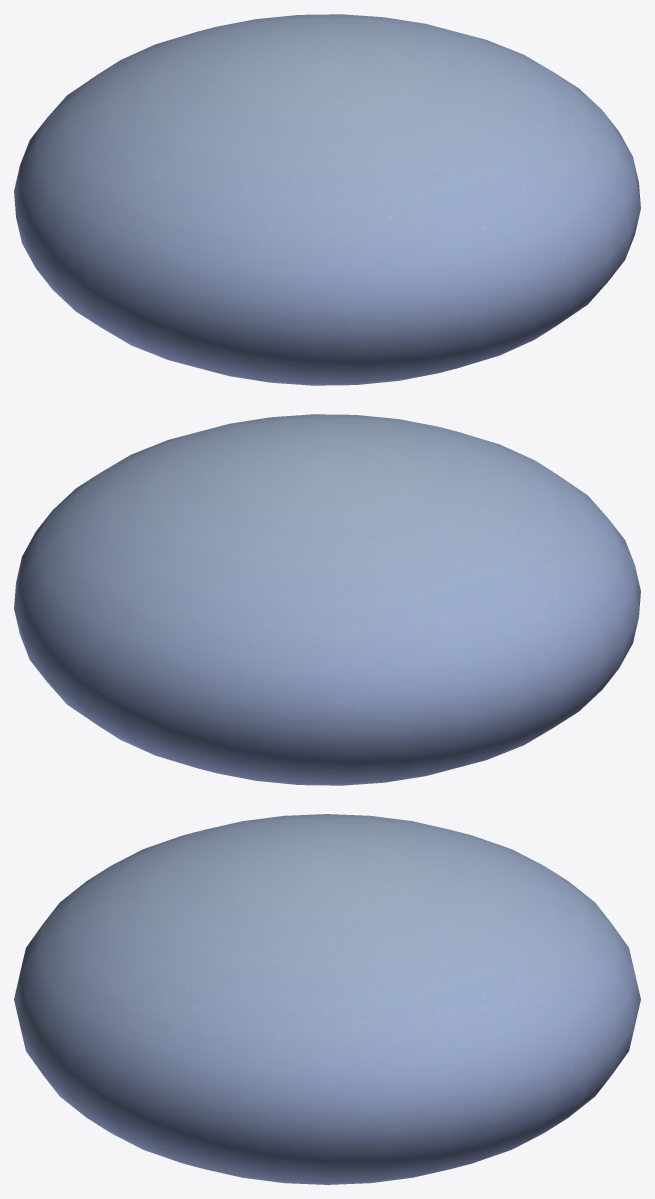
File: drone.obj
3 renders of one model, top to bottom at view 1: azimuth 30°, elevation 25°; view 2: azimuth 150°, elevation 25°; view 3: azimuth 270°, elevation 25°, orthographic.
Visible parts, largest first — view 1: 球; view 2: 球; view 3: 球.
Part boxes in pixels (<box>): 球: <box>14,14,640,385</box>; 球: <box>14,414,640,785</box>; 球: <box>14,814,640,1184</box>.
Size of the model in its own units: 2 by 0.9099 by 2.
